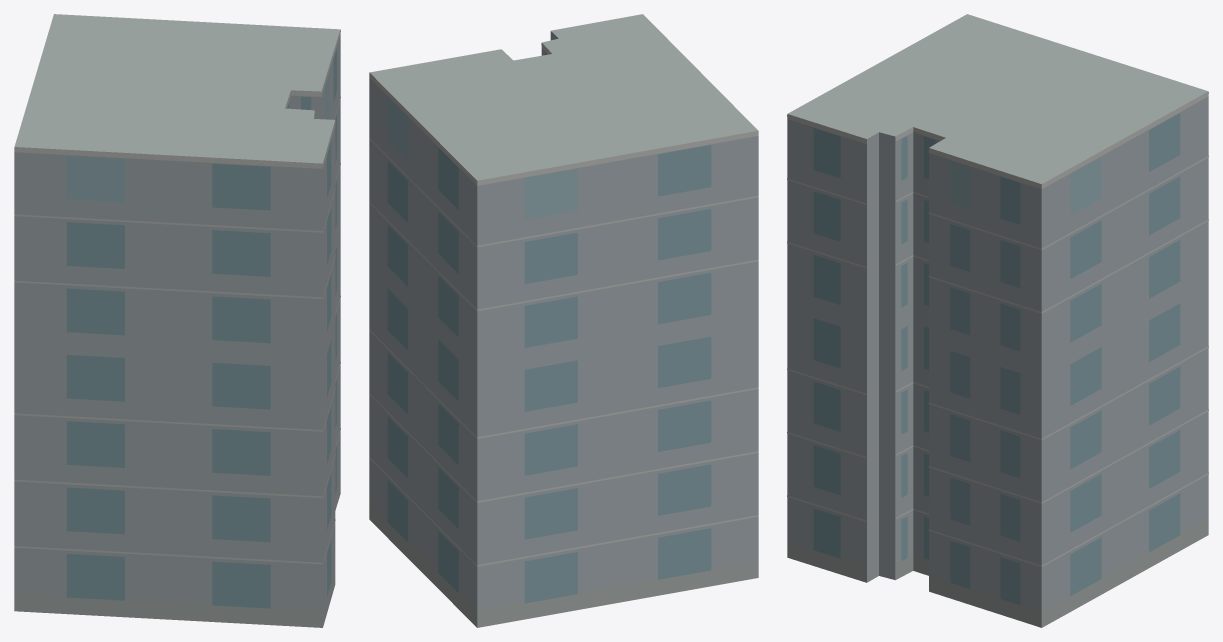
The model's file is survey-upis-33001327.glb.
3 renders of one model, left to right at view 1: azimuth 30°, elevation 25°; view 2: azimuth 150°, elevation 25°; view 3: azimuth 270°, elevation 25°, orthographic. The views are drawn at different scales.
Parts seen in each view (by area): view 1: survey-upis-33001327.tmp; view 2: survey-upis-33001327.tmp; view 3: survey-upis-33001327.tmp.
Part boxes in pixels (box(x1,y1,x2,y2)): survey-upis-33001327.tmp: box(14, 14, 340, 627); survey-upis-33001327.tmp: box(369, 14, 758, 627); survey-upis-33001327.tmp: box(787, 14, 1208, 627).
Bounding box in the file's own units: 17.59 × 21.35 × 18.4.
